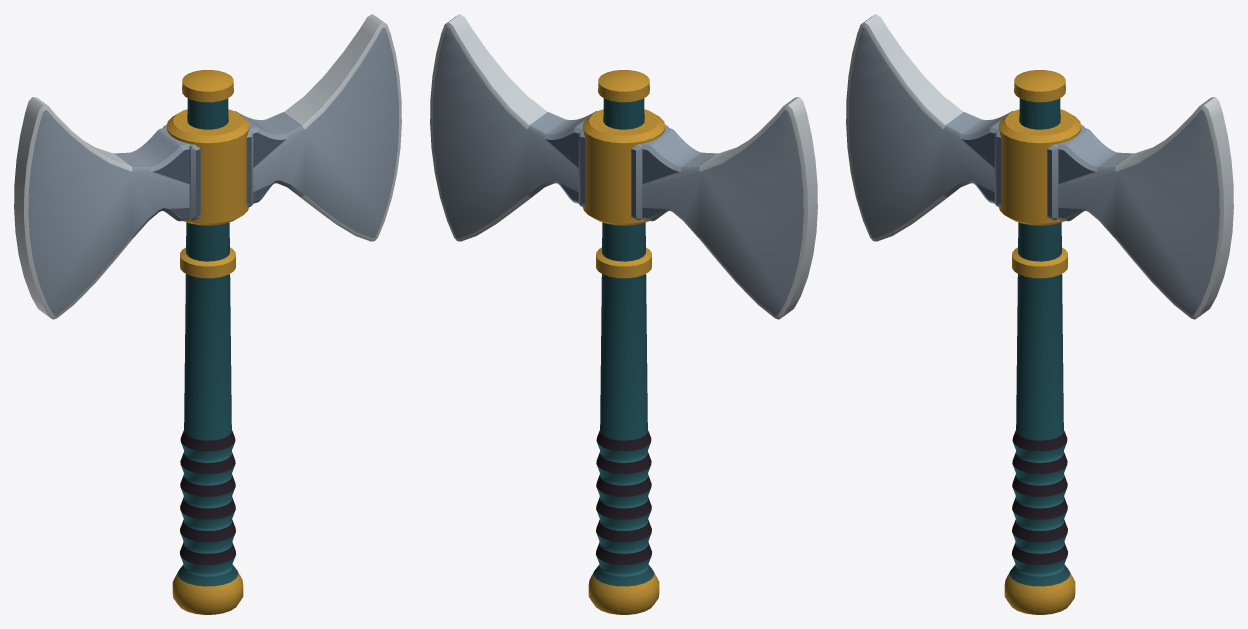
The model's file is Axe_08.glb.
The picture shows the model from 3 angles, left to right: view 1: azimuth 30°, elevation 25°; view 2: azimuth 150°, elevation 25°; view 3: azimuth 330°, elevation 25°; orthographic projection.
Visible parts, largest first — view 1: Axe_08; view 2: Axe_08; view 3: Axe_08.
Part boxes in pixels (x1=…): Axe_08: x1=14, y1=14, x2=401, y2=614; Axe_08: x1=430, y1=14, x2=817, y2=614; Axe_08: x1=846, y1=14, x2=1233, y2=614.
Bounding box in the file's own units: 3.35 × 4.59 × 0.636.
